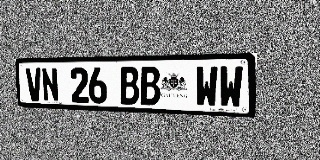2: (70, 67, 89, 103)
6: (88, 67, 107, 104)
B: (139, 66, 160, 105), (119, 67, 140, 105)
N: (41, 68, 59, 102)
V: (25, 68, 43, 102)
W: (219, 66, 243, 108), (195, 66, 218, 107)
